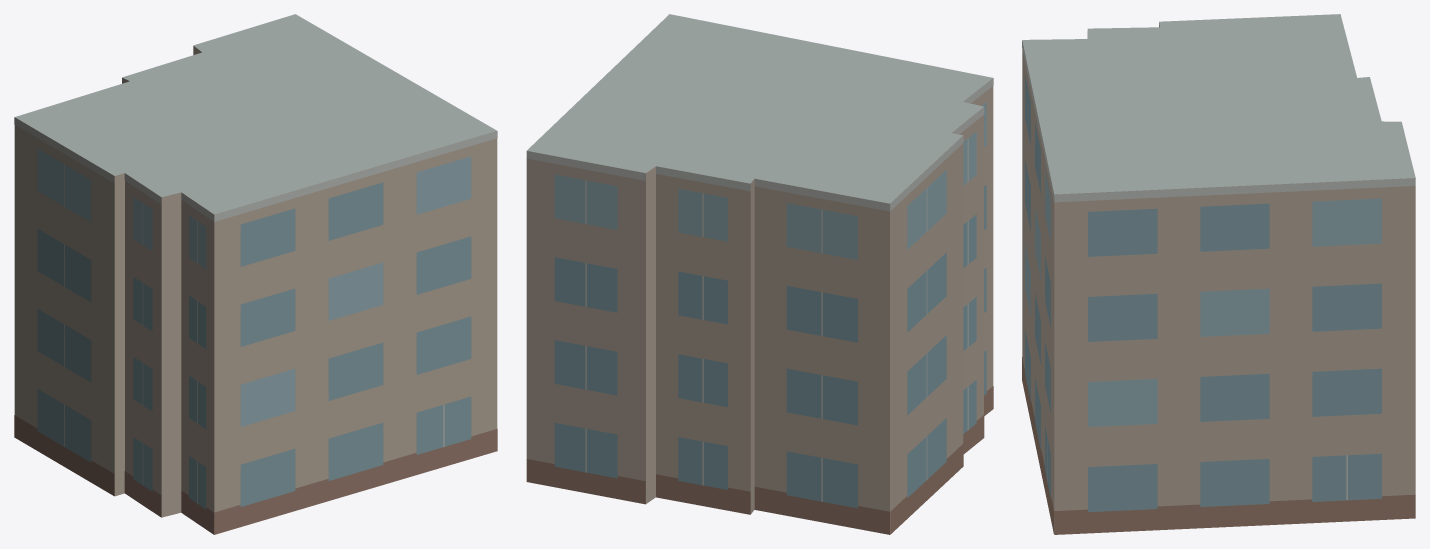
File: survey-upis-32811550.glb
The picture shows the model from 3 angles, left to right: view 1: azimuth 30°, elevation 25°; view 2: azimuth 150°, elevation 25°; view 3: azimuth 270°, elevation 25°; orthographic projection. The views are drawn at different scales.
Visible parts, largest first — view 1: survey-upis-32811550.tmp; view 2: survey-upis-32811550.tmp; view 3: survey-upis-32811550.tmp.
Part boxes in pixels (box(x1,y1,x2,y2)): survey-upis-32811550.tmp: box(14, 14, 497, 534); survey-upis-32811550.tmp: box(526, 14, 993, 534); survey-upis-32811550.tmp: box(1022, 14, 1415, 534).
Size of the model in its own units: 12.01 by 10.55 by 11.07.
